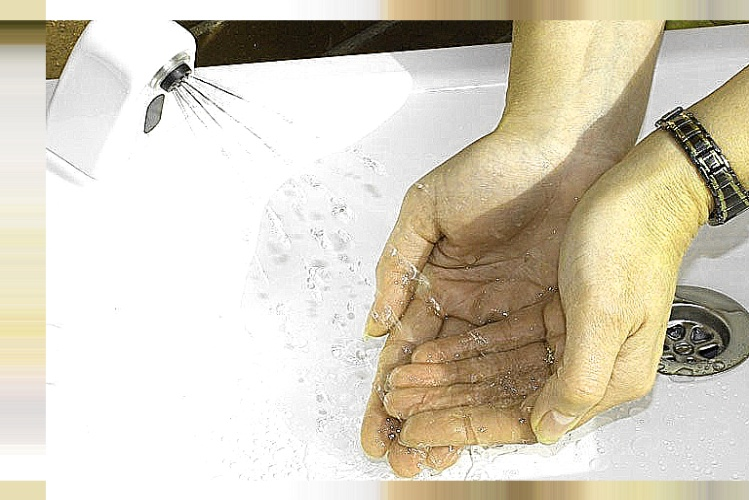washing hand: (85, 34, 717, 471)
